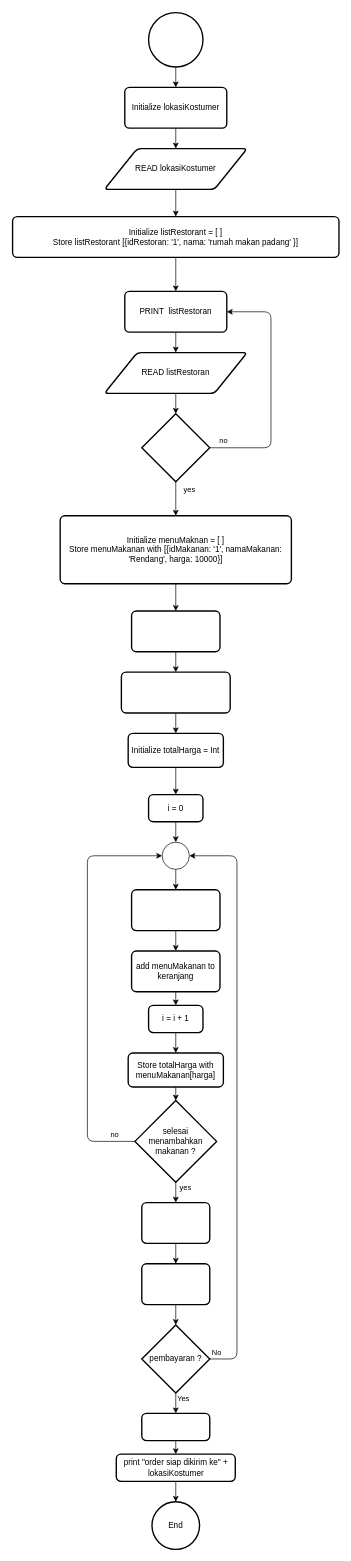
The diagram is 351 pixels wide and 1561 high, and some of its shapes have lost their labels. The box of each missing label's shape, as (x1, y1, x2, y2) in pixels:
Initialize keranjang = [ ]: (120, 671, 231, 713)
is Open ?: (141, 413, 210, 482)
online pay: (141, 1412, 210, 1441)
Print "Lanjut ke pembayaran": (141, 1263, 210, 1305)
Print menuMakanan: (131, 610, 220, 652)
Print totalHarga: (141, 1202, 210, 1244)
READ menuMakanan: (131, 889, 220, 931)
Start: (148, 12, 203, 67)
